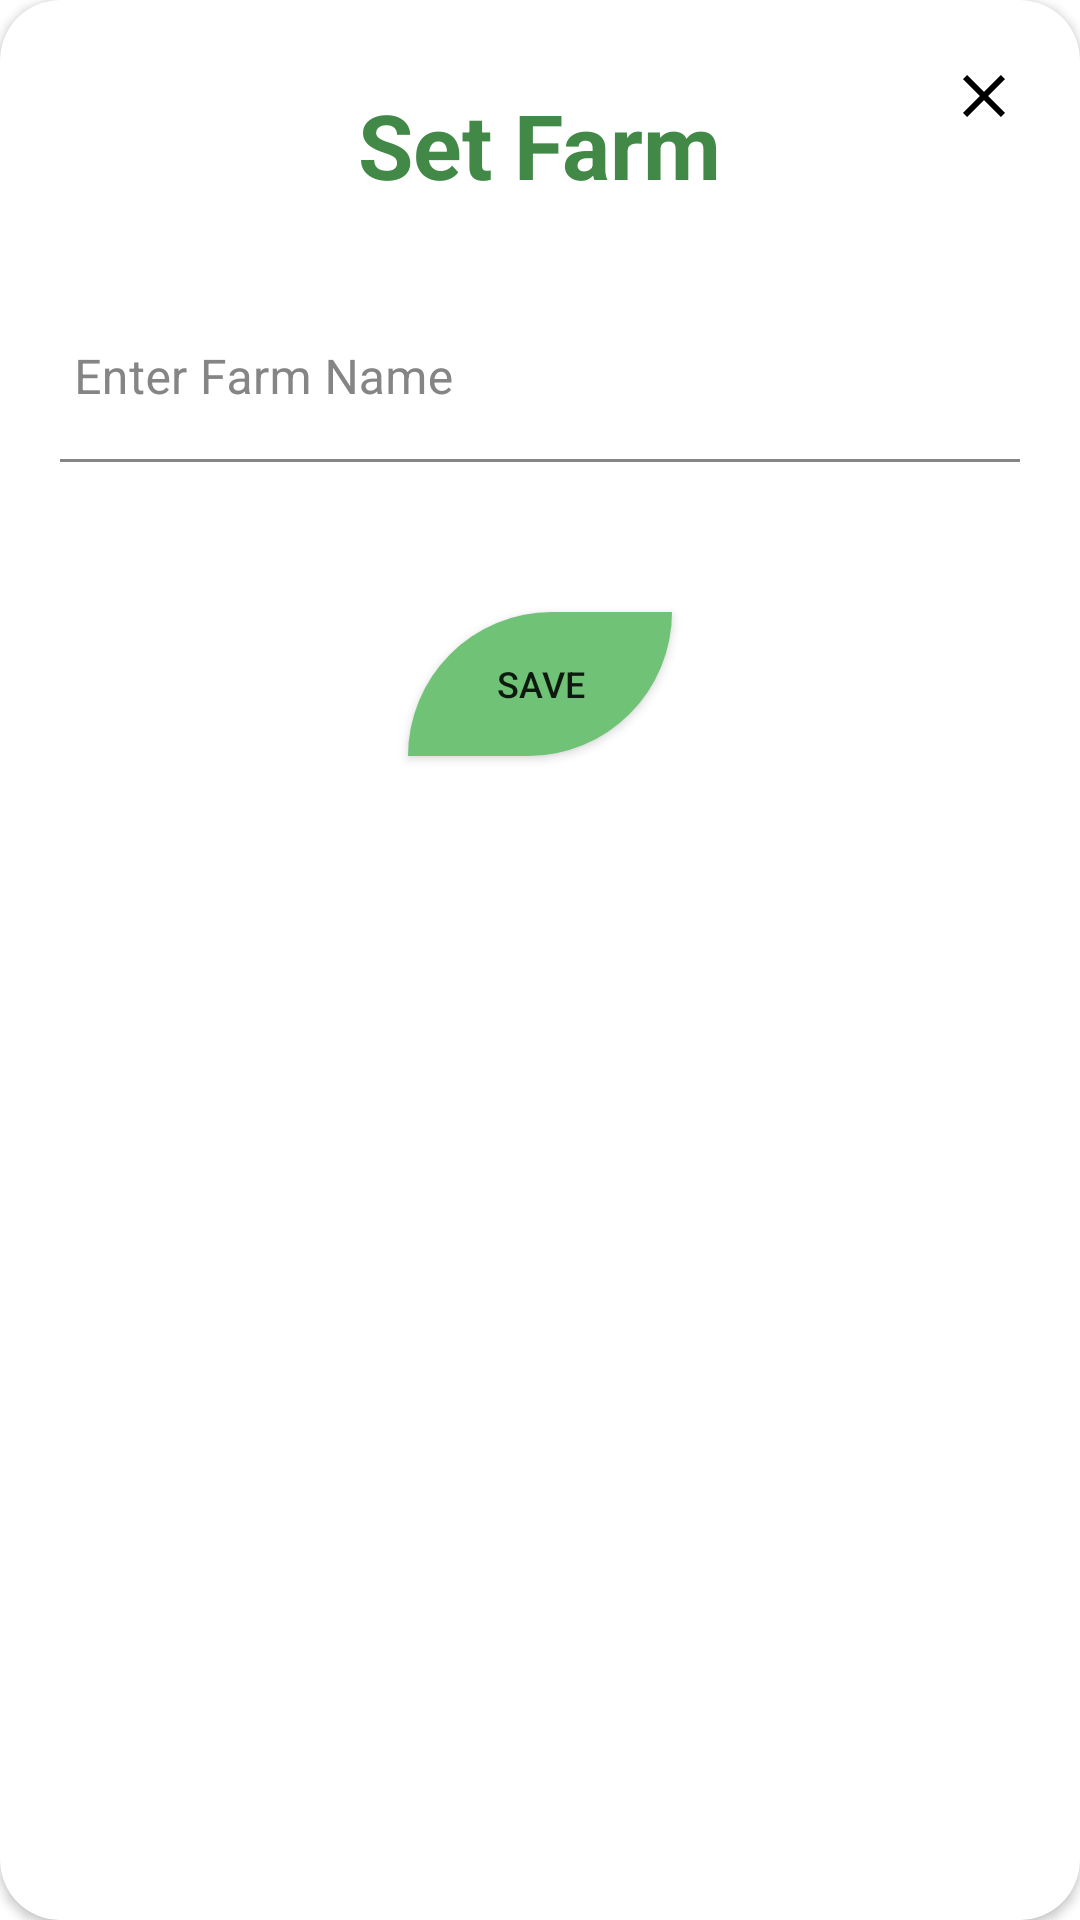

Icon click points for this 1080w x 1920h phone screenshot, format (x,y):
close: (984,96)
